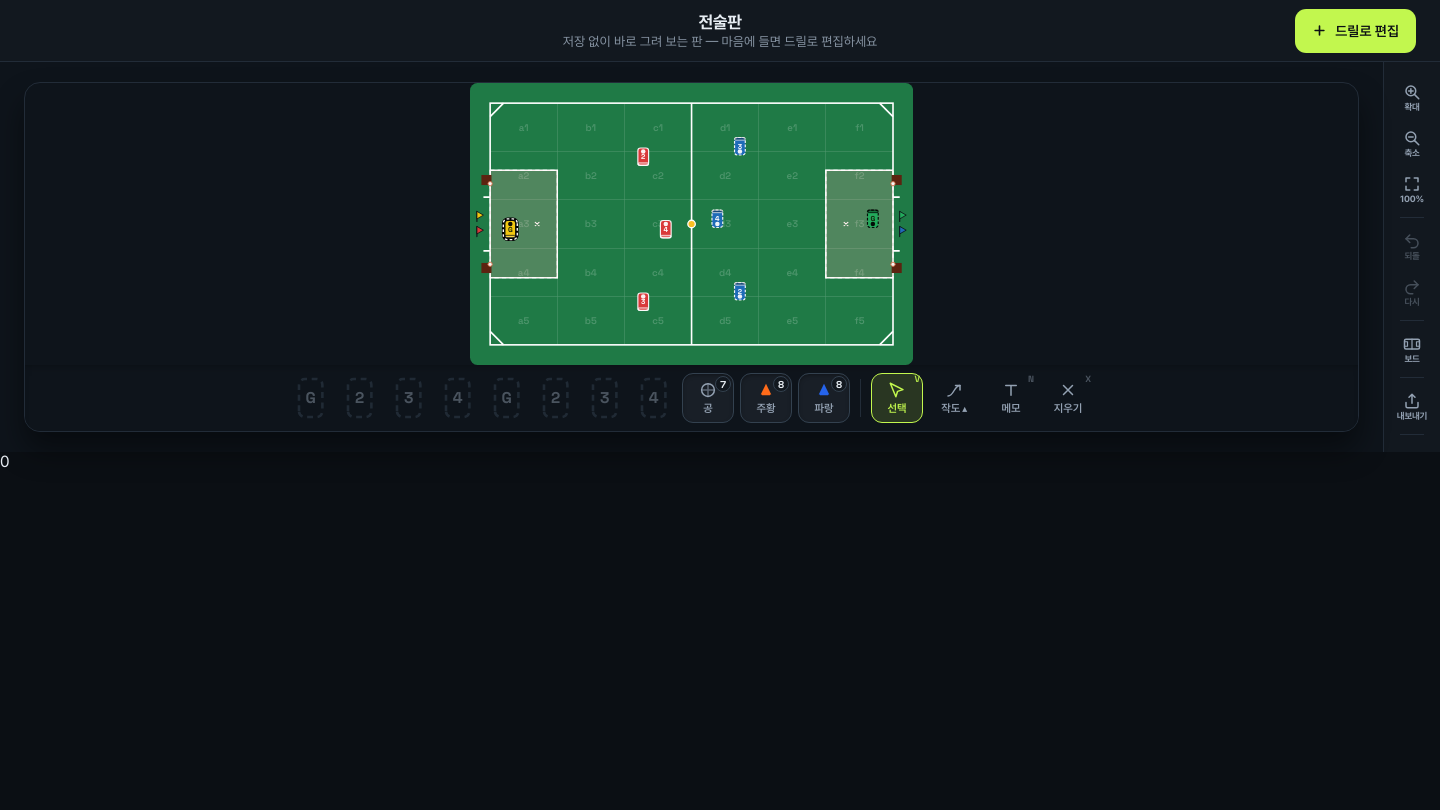
Test: 코트 자유 전환 게이트 — "리셋 상태일 때만" (§6.8 재편, 기현 결정) › 잠긴 상태에서 눌러도 코트가 바뀌지 않고, 이유를 알려준다
Expected: the navigation bar named "도구" is shown, [25,365,1358,431]
Type keys "{Shift>}{ArrowRight}{/Shift}"
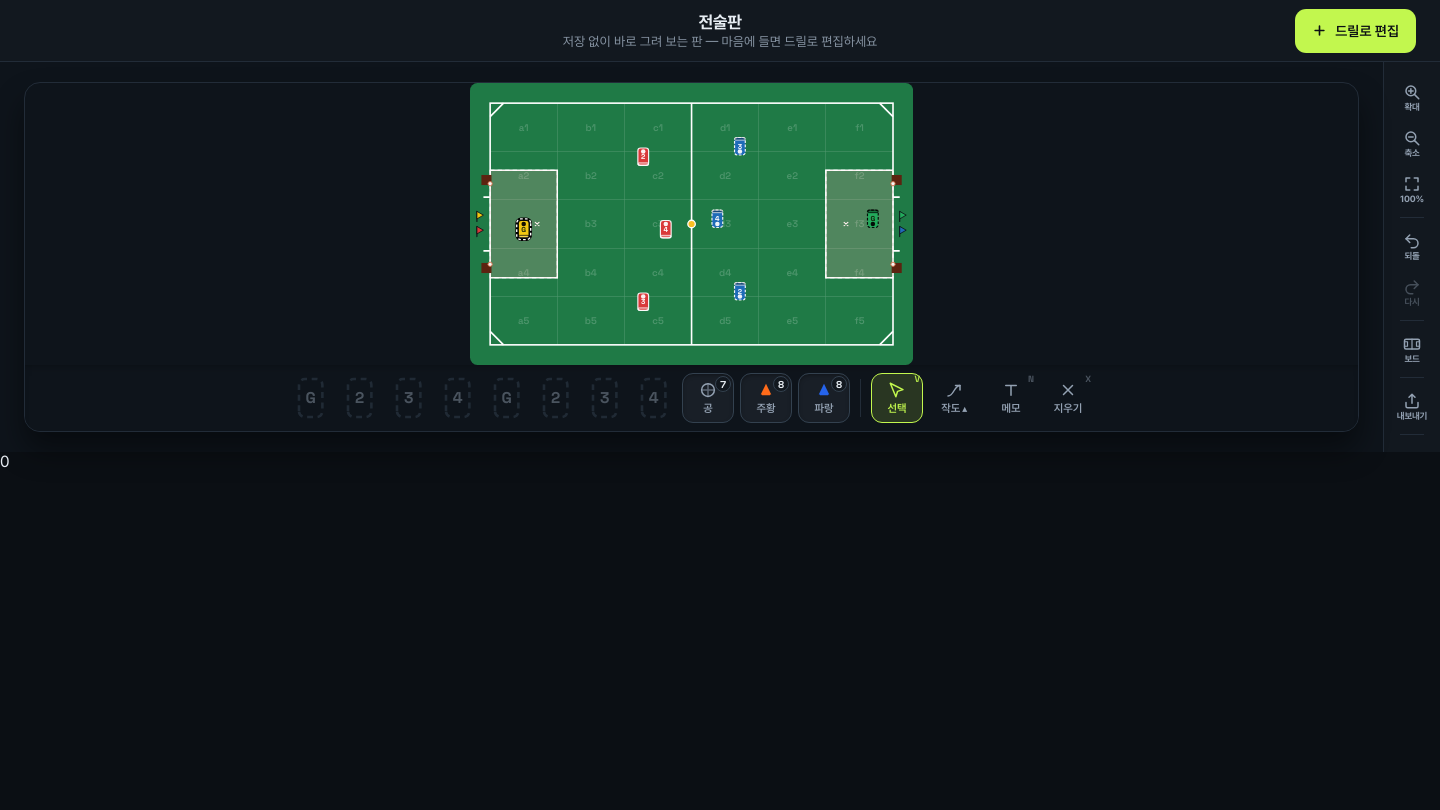
Click the button with aria-label "보드 설정" at (1412, 349), box [1390,327,1434,371]
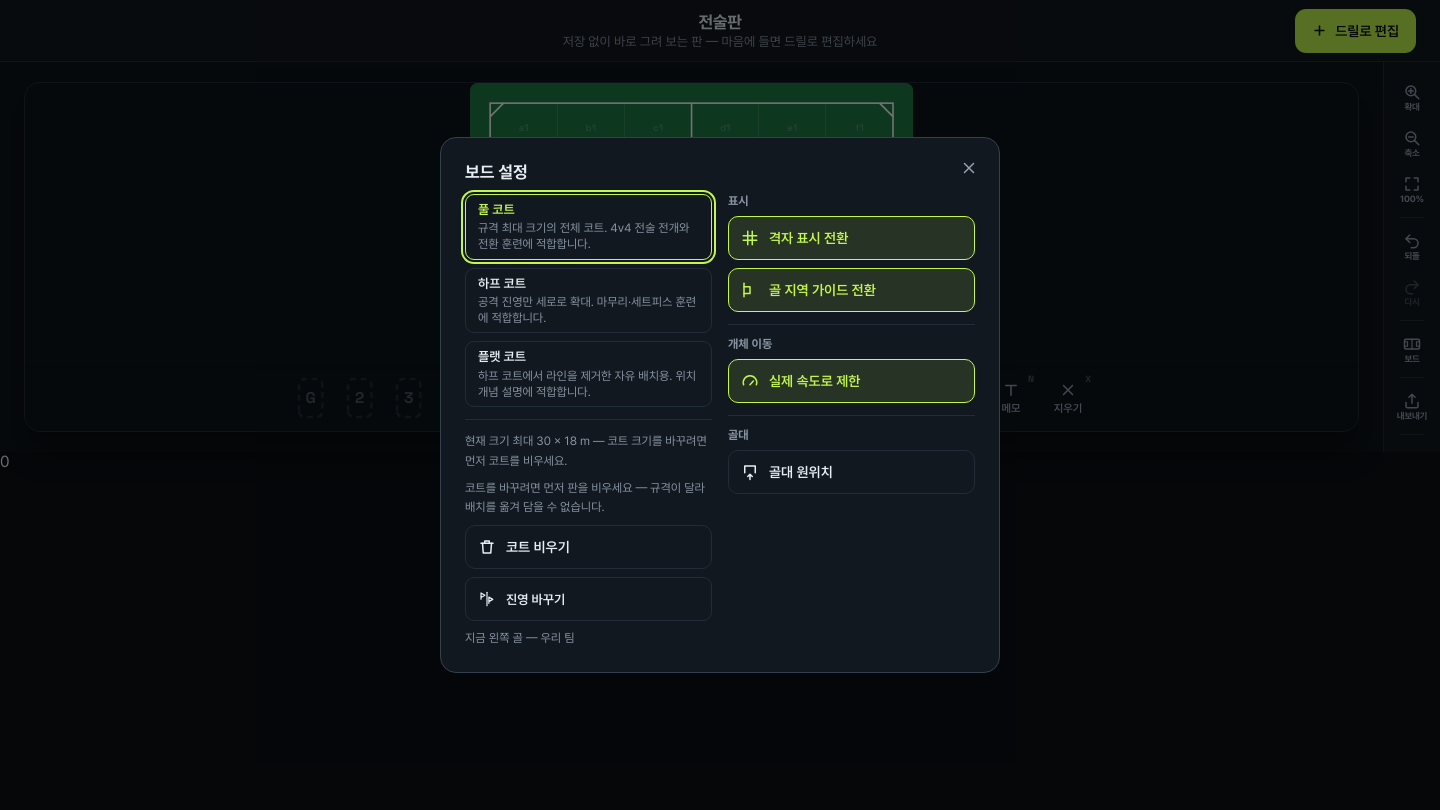
Click the radio button labelled "하프 코트 공격 진영만 세로로 확대. 마무리·세트피스 훈련에 적합합니다." at (588, 301), box [465,268,712,334]
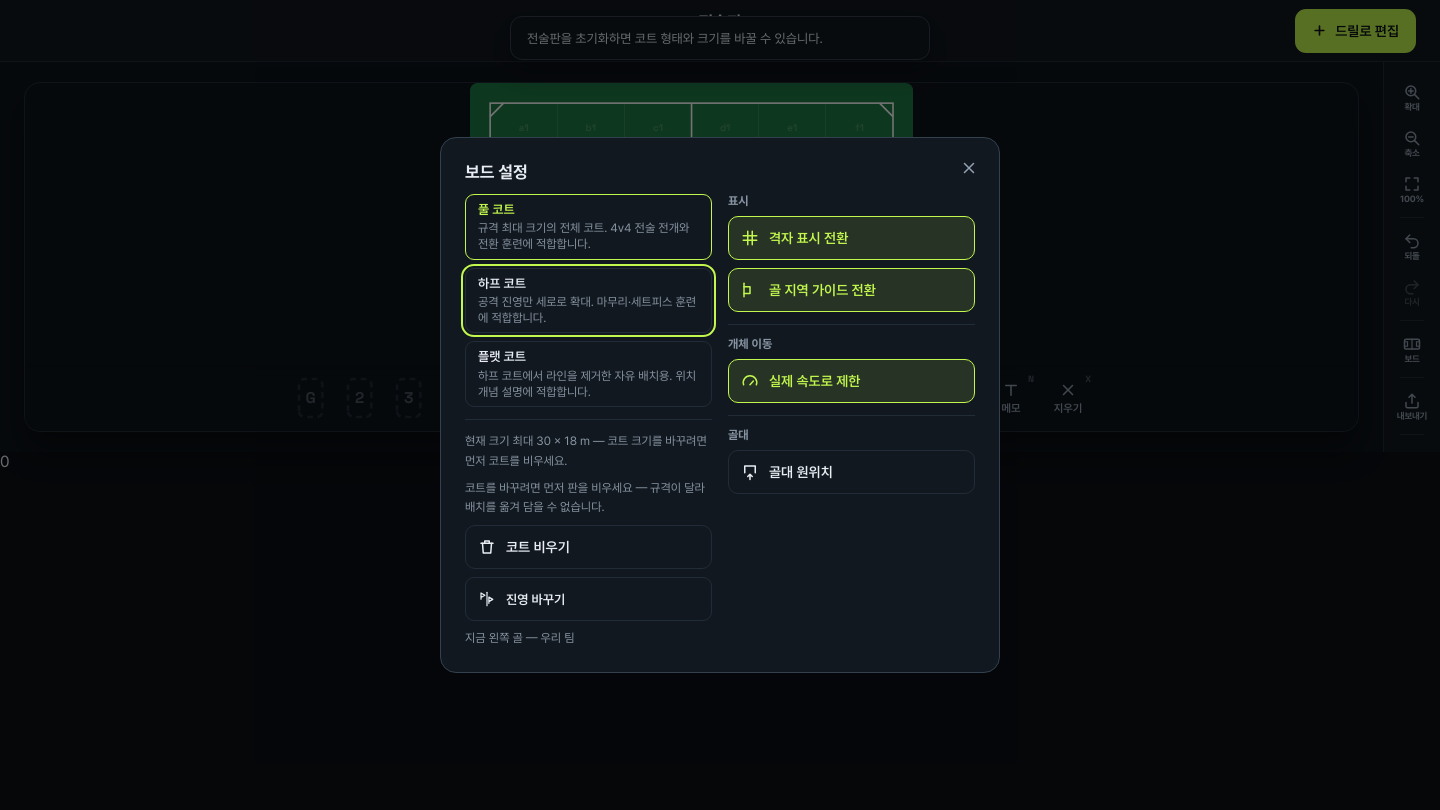
Result: the text "전술판을 초기화하면 코트 형태와 크기를 바꿀 수 있습니다." is shown at [527,30,823,46]
